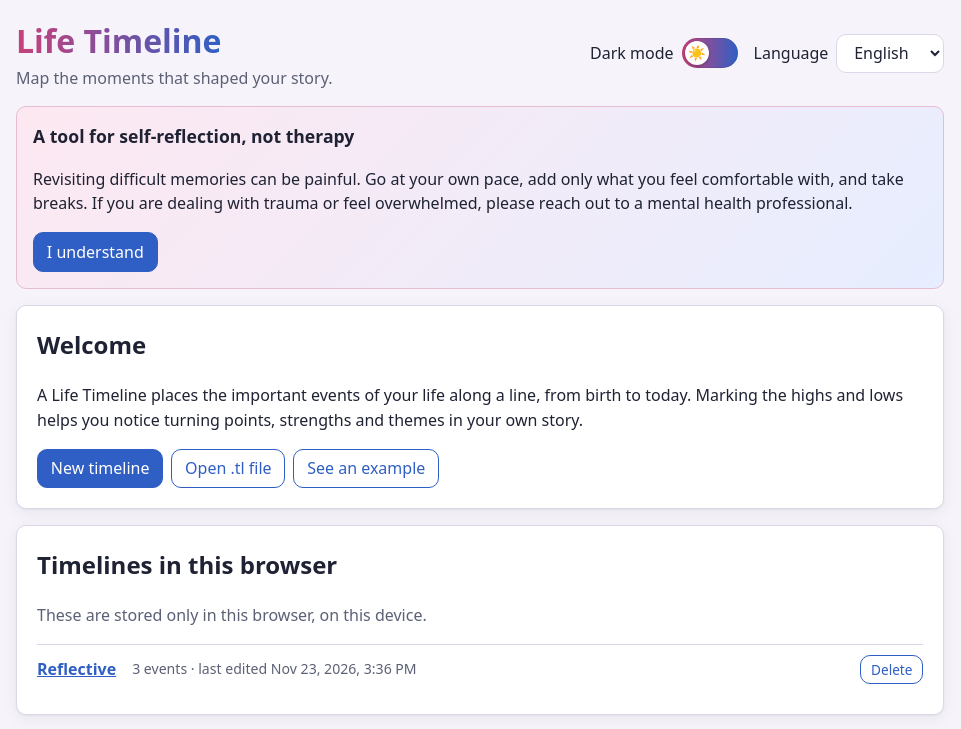
Test: reflection page › summarises high point, low point and turning points
What coordinates should you click on to do the following:
click the button "Reflective"
I would click on:
 (77, 669)
Its box is [37,657,116,682].
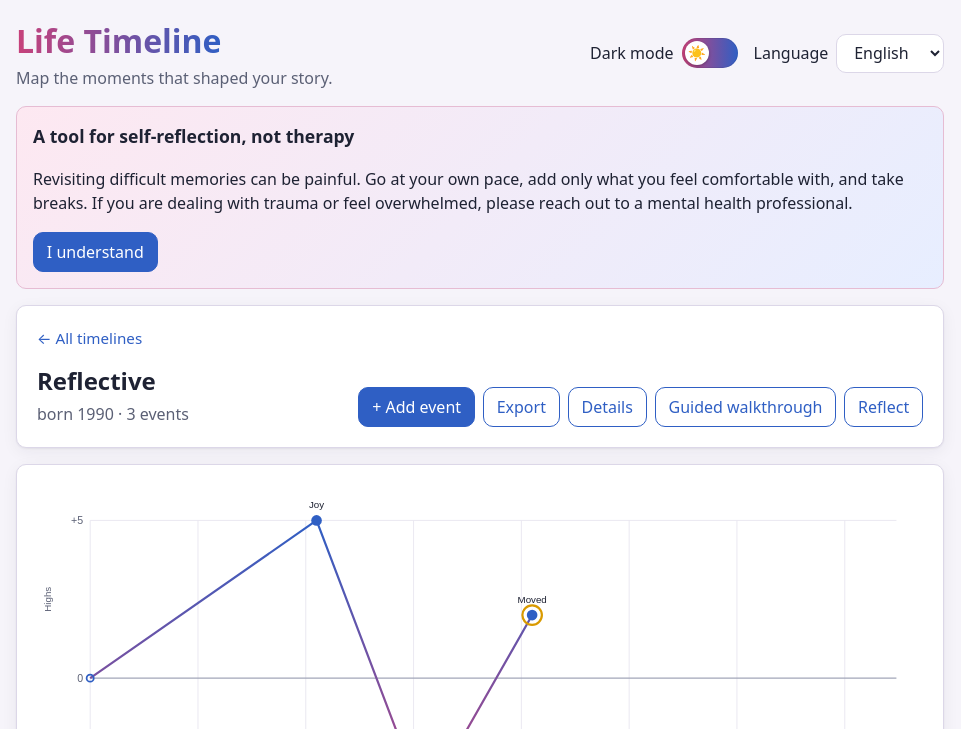
What coordinates should you click on to do the following:
click the button "Reflect"
I would click on:
 (884, 407)
Its box is [844,387,923,427].
(page scrolled)
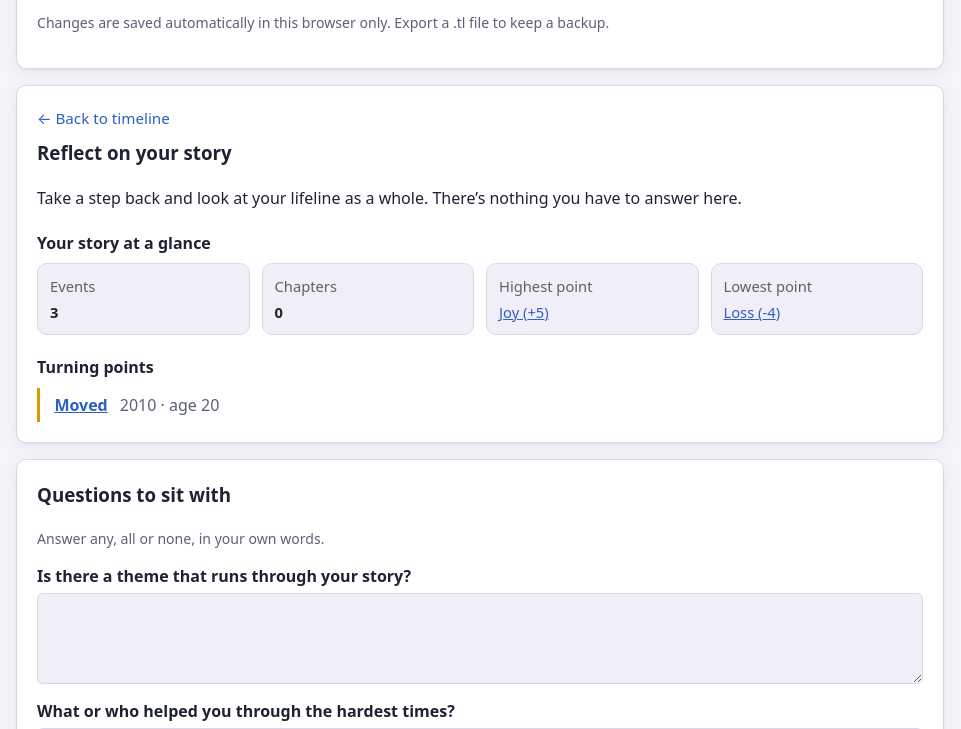
Expected: the button "Moved" is shown, [54,393,108,417]
Expected: the button "Joy (+5)" is shown, [499,301,686,324]
Expected: the button "Loss (-4)" is shown, [724,301,910,324]
